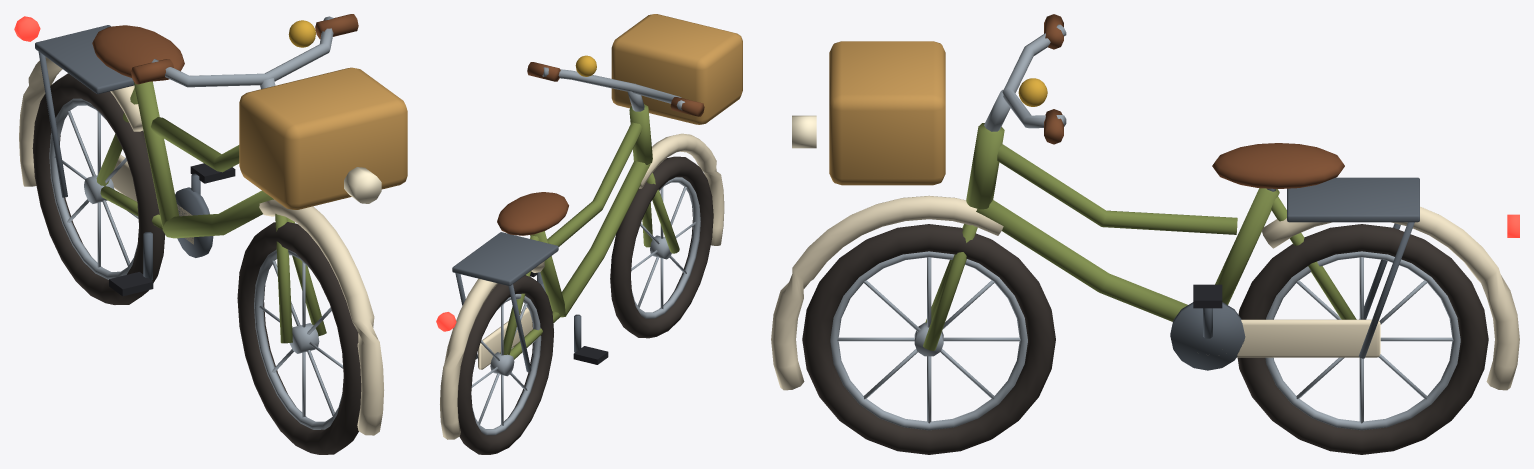
The model's file is bicycle.gltf.
3 views of the same model, side by side, from view 1: azimuth 30°, elevation 25°; view 2: azimuth 150°, elevation 25°; view 3: azimuth 270°, elevation 25° (orthographic). The views are drawn at different scales.
Visible parts, largest first — view 1: STEER_mesh, bicycle_frame, WHEEL_front_mesh, WHEEL_rear_mesh, CRANK_mesh; view 2: bicycle_frame, STEER_mesh, WHEEL_front_mesh, WHEEL_rear_mesh, CRANK_mesh; view 3: bicycle_frame, STEER_mesh, WHEEL_front_mesh, WHEEL_rear_mesh, CRANK_mesh.
Boxes of the visible parts, x1,y1,x2,y2 form: STEER_mesh: [131, 14, 407, 435]; bicycle_frame: [14, 16, 273, 244]; WHEEL_front_mesh: [237, 222, 361, 454]; WHEEL_rear_mesh: [32, 73, 165, 304]; CRANK_mesh: [109, 163, 235, 296]; bicycle_frame: [436, 104, 652, 439]; STEER_mesh: [527, 14, 742, 253]; WHEEL_front_mesh: [610, 156, 713, 338]; WHEEL_rear_mesh: [457, 275, 553, 454]; CRANK_mesh: [530, 271, 608, 364]; bicycle_frame: [966, 123, 1519, 390]; STEER_mesh: [771, 14, 1066, 390]; WHEEL_front_mesh: [802, 224, 1055, 454]; WHEEL_rear_mesh: [1237, 224, 1488, 454]; CRANK_mesh: [1170, 284, 1245, 370].
Size of what is drawn, in the model's own units: 0.64 by 1.06 by 1.8.
